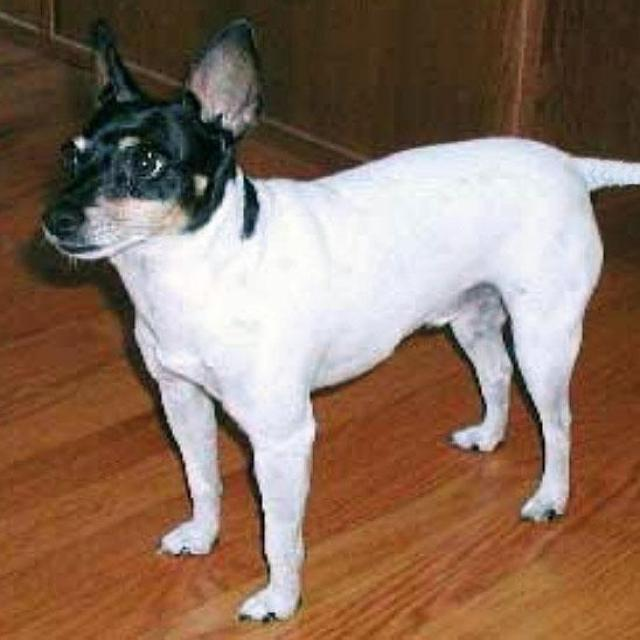relax: (41, 15, 634, 630)
